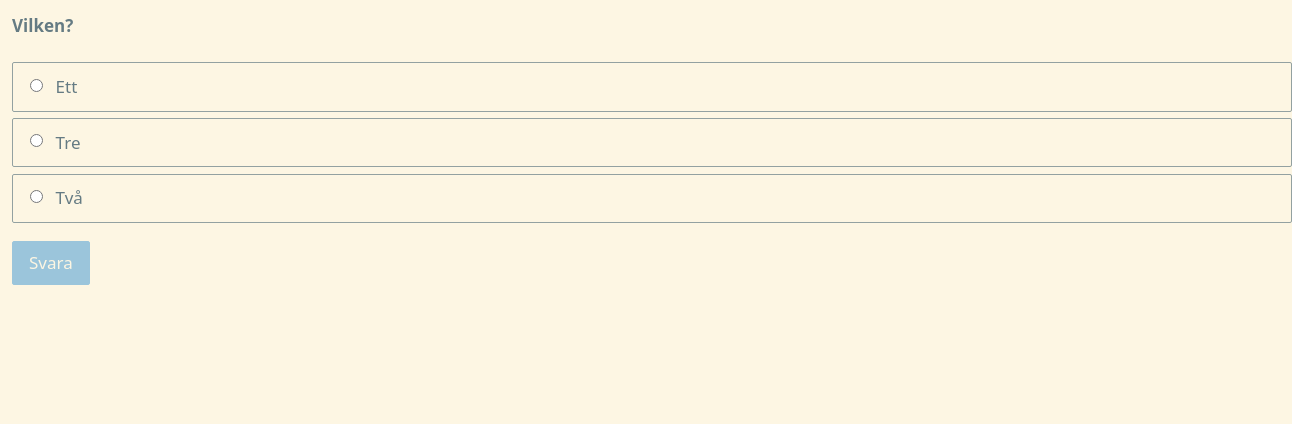
Mcq › explains a wrong answer, reports it as answered and lets the student retry
Click the radio button labelled "Ett" at (36,85), box [30,79,43,92]
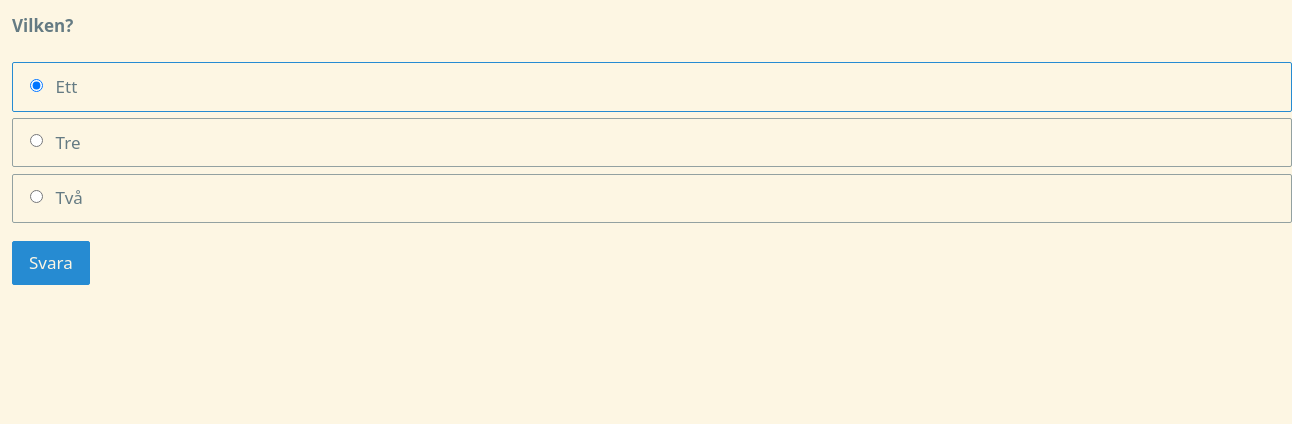
Click the button "Svara" at (51,263), box [12,241,90,285]
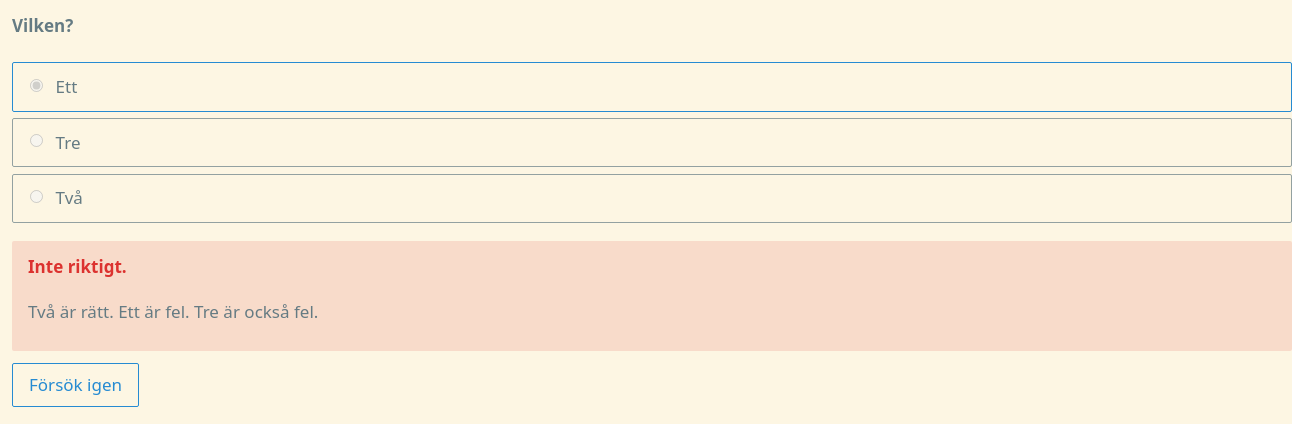
Result: the text "Inte riktigt." is shown at [28,255,127,278]
Result: the text "Två är rätt. Ett är fel. Tre är också fel." is shown at [28,300,318,323]
Click the button "Försök igen" at (76,385), box [12,363,139,407]
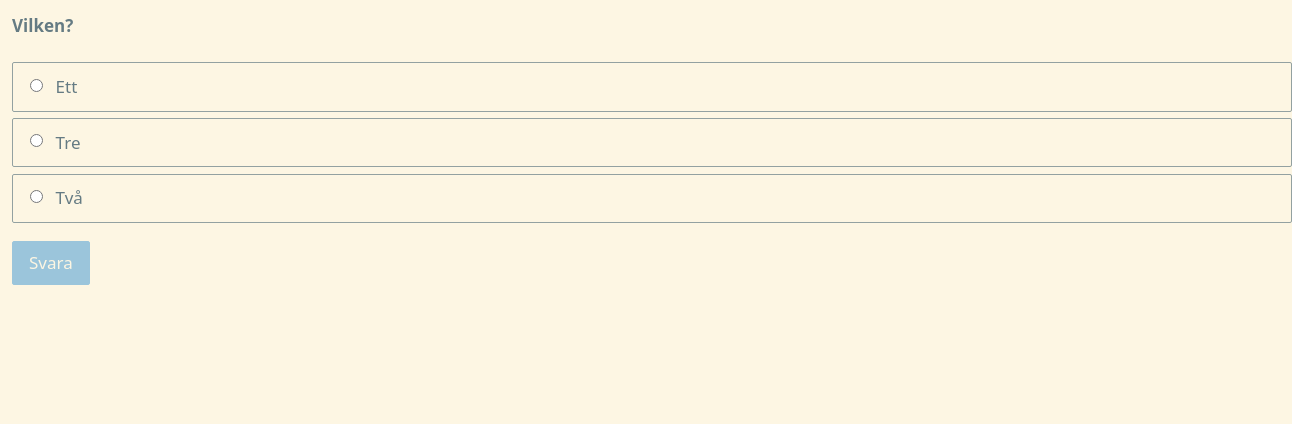
Result: the text "Inte riktigt" is gone
Result: the button "Svara" is shown at [12,241,90,285]
